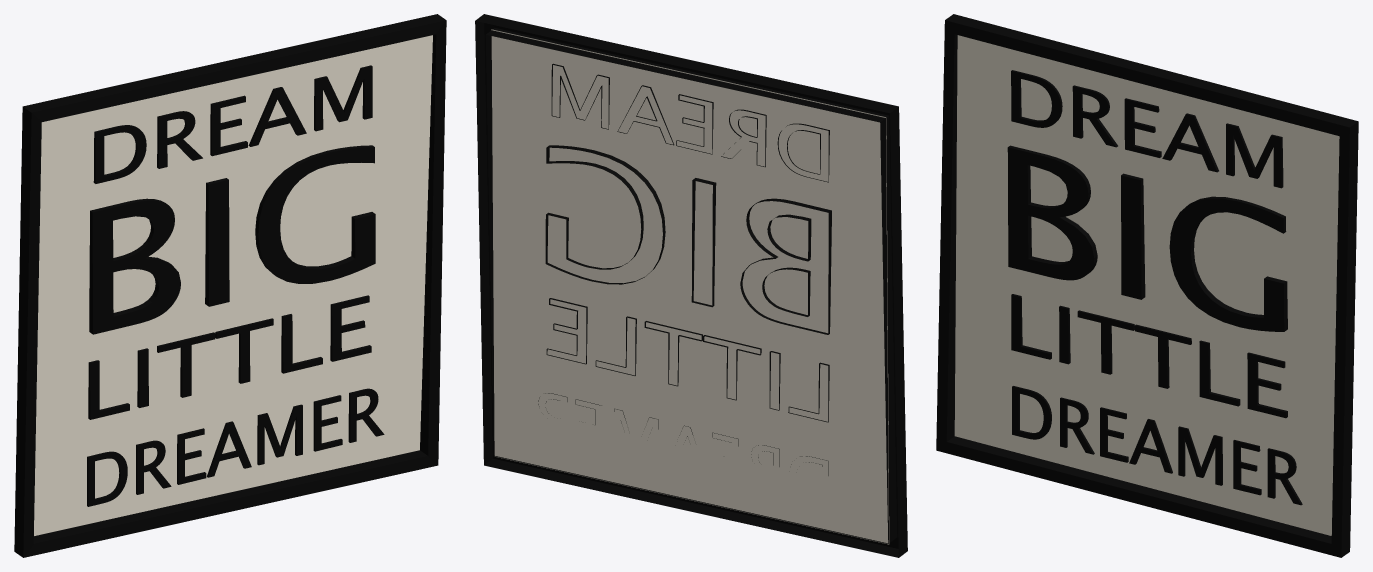
The model's file is Childroom2_Picture2.glb.
3 views of the same model, side by side, from view 1: azimuth 30°, elevation 25°; view 2: azimuth 150°, elevation 25°; view 3: azimuth 330°, elevation 25° (orthographic). The views are drawn at different scales.
Parts seen in each view (by area): view 1: Childroom2_Picture2; view 2: Childroom2_Picture2; view 3: Childroom2_Picture2.
Boxes of the visible parts, box(x1,y1,x2,y2) form: Childroom2_Picture2: box(14, 14, 446, 557); Childroom2_Picture2: box(475, 14, 907, 557); Childroom2_Picture2: box(936, 14, 1358, 557).
Bounding box in the file's own units: 0.8095 × 0.8252 × 0.0308.
Materials: 1 (1 with a texture image).
